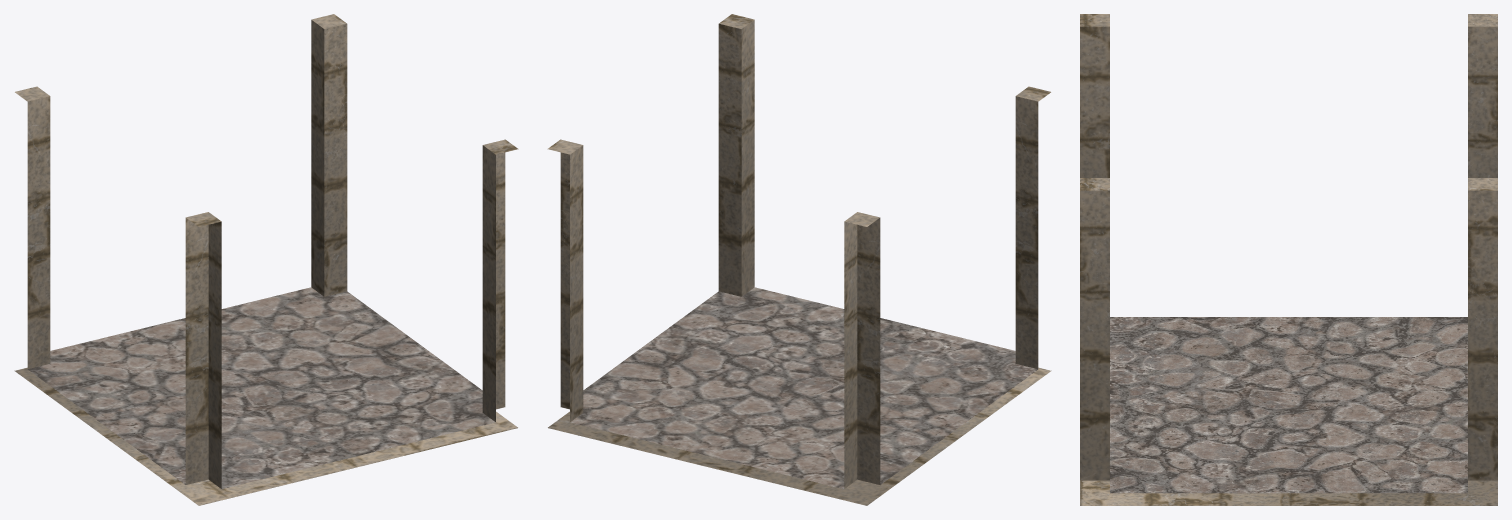
The model's file is ModuleCross.fbx.
3 views of the same model, side by side, from view 1: azimuth 30°, elevation 25°; view 2: azimuth 150°, elevation 25°; view 3: azimuth 270°, elevation 25° (orthographic). The views are drawn at different scales.
Visible parts, largest first — view 1: ModuleCrossFloorTile, ModuleCross, ModuleCrossFloorEdge; view 2: ModuleCrossFloorTile, ModuleCross, ModuleCrossFloorEdge; view 3: ModuleCrossFloorTile, ModuleCross, ModuleCrossFloorEdge.
Part boxes in pixels (left/top/right/bottom): ModuleCrossFloorTile: left=28, top=287, right=495, bottom=488; ModuleCross: left=15, top=14, right=518, bottom=488; ModuleCrossFloorEdge: left=14, top=367, right=517, bottom=505; ModuleCrossFloorTile: left=570, top=287, right=1037, bottom=488; ModuleCross: left=547, top=14, right=1050, bottom=488; ModuleCrossFloorEdge: left=548, top=367, right=1051, bottom=505; ModuleCrossFloorTile: left=1110, top=317, right=1467, bottom=493; ModuleCross: left=1080, top=14, right=1497, bottom=480; ModuleCrossFloorEdge: left=1080, top=480, right=1497, bottom=505.
Size of the model in its own units: 300 by 250 by 300.
